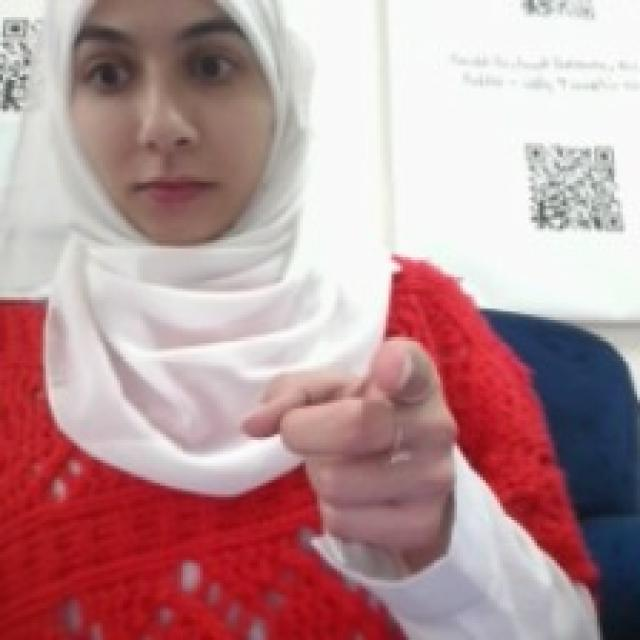you: (235, 330, 466, 554)
